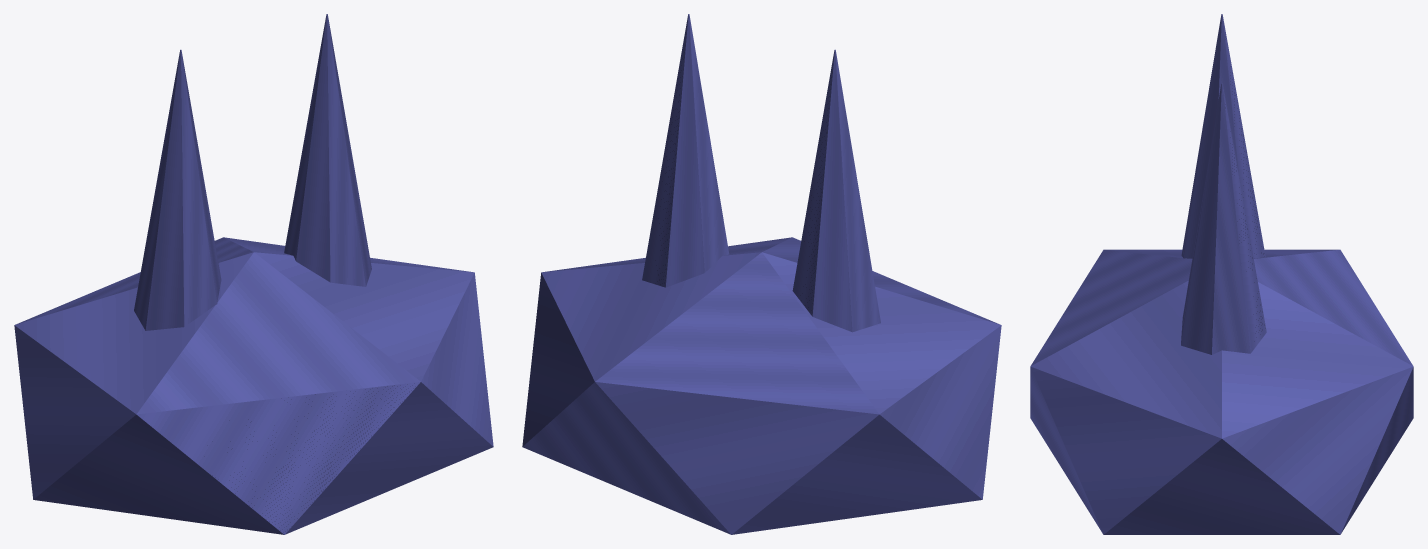
File: solo_hunt.glb
The picture shows the model from 3 angles, left to right: view 1: azimuth 30°, elevation 25°; view 2: azimuth 150°, elevation 25°; view 3: azimuth 270°, elevation 25°; orthographic projection. The views are drawn at different scales.
Parts seen in each view (by area): view 1: gear_solo_hunt; view 2: gear_solo_hunt; view 3: gear_solo_hunt.
Boxes of the visible parts, x1,y1,x2,y2 form: gear_solo_hunt: [14, 14, 493, 534]; gear_solo_hunt: [522, 14, 1001, 534]; gear_solo_hunt: [1030, 14, 1413, 534].
Size of the model in its own units: 0.483 by 0.51 by 0.3743.
1 material, 1 textured.
